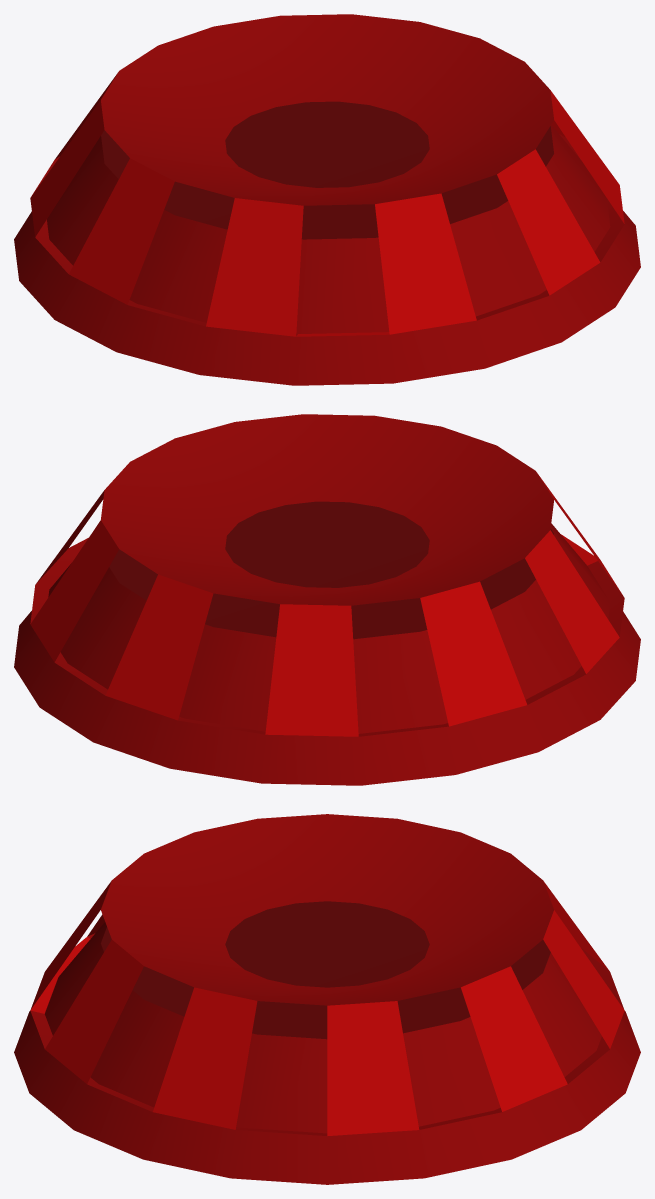
File: Booster.fbx
3 renders of one model, top to bottom at view 1: azimuth 30°, elevation 25°; view 2: azimuth 150°, elevation 25°; view 3: azimuth 270°, elevation 25°, orthographic.
Visible parts, largest first — view 1: Booster; view 2: Booster; view 3: Booster.
Part boxes in pixels (x1,y1,x2,y2): Booster: (14,14,640,385); Booster: (14,414,640,785); Booster: (14,814,640,1184).
Bounding box in the file's own units: 3.32 × 0.9928 × 3.32.
